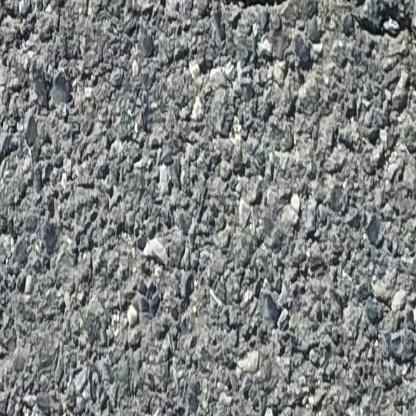Cracks: (322, 0, 416, 52), (207, 0, 307, 16)
